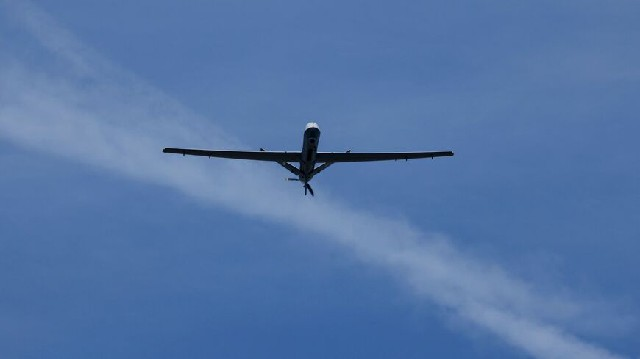maybay_khongnguoilai: (158, 121, 459, 208)
